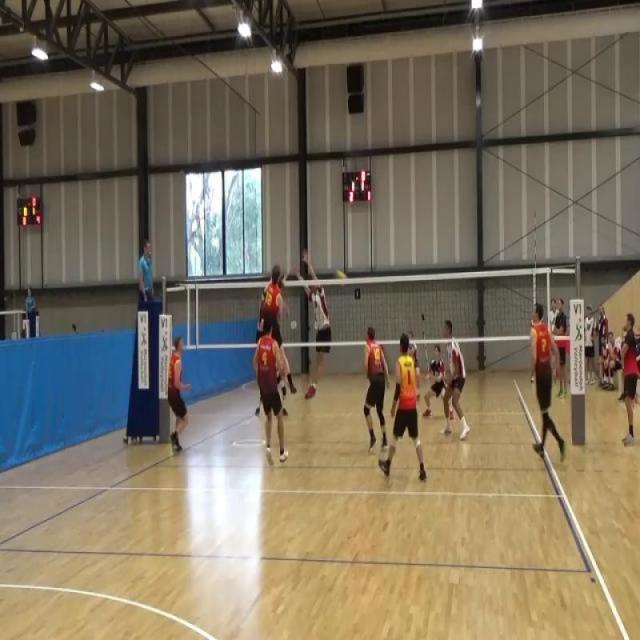volleyball: (334, 268, 348, 280)
